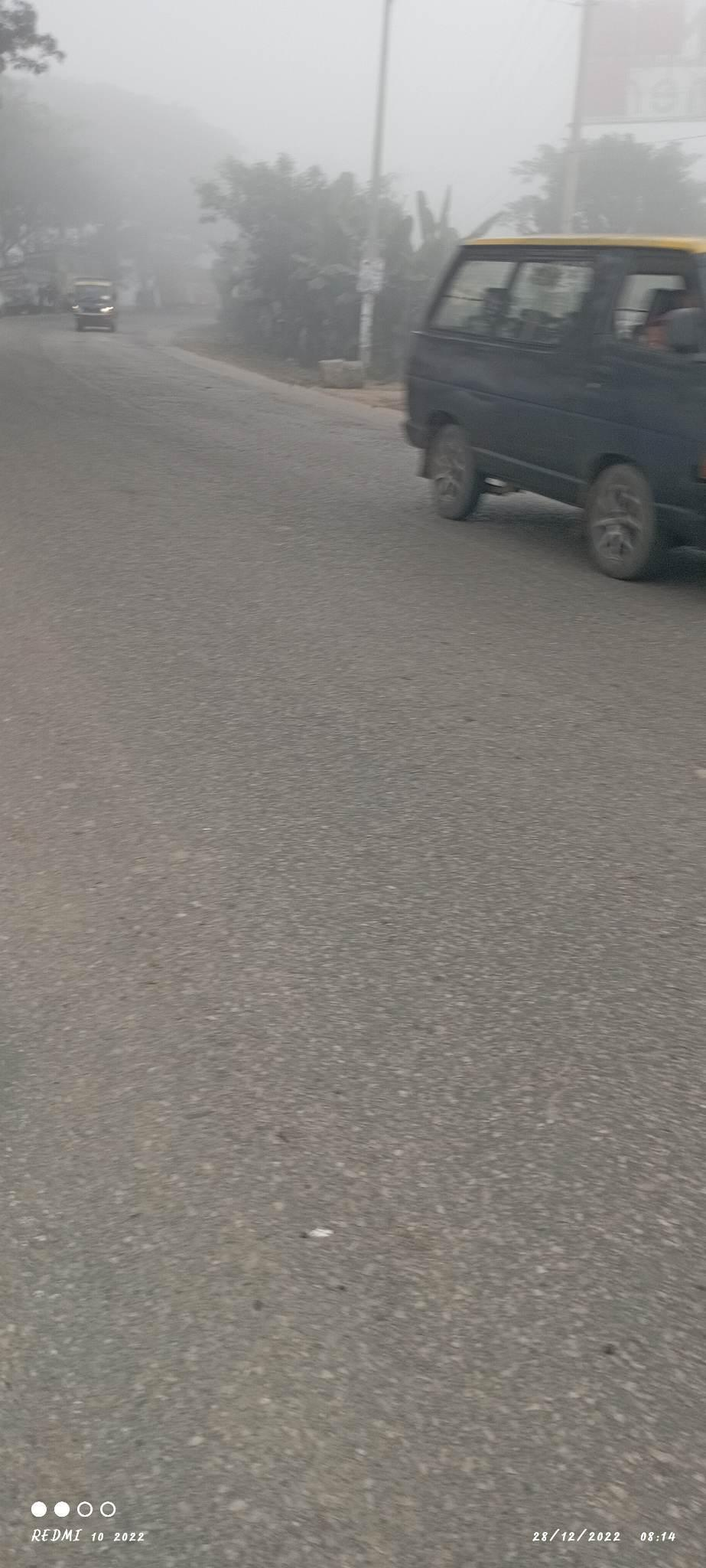Car: (389, 199, 706, 579)
Truck: (60, 264, 129, 342)
